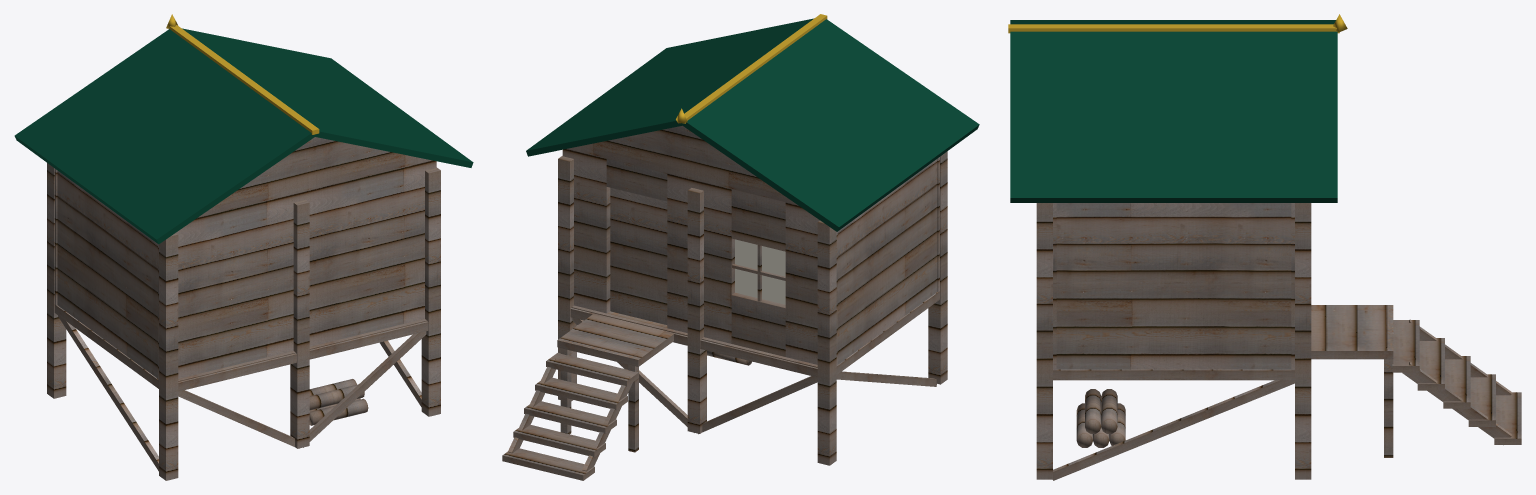
The model's file is gubuk-santri.glb.
The picture shows the model from 3 angles, left to right: view 1: azimuth 30°, elevation 25°; view 2: azimuth 150°, elevation 25°; view 3: azimuth 270°, elevation 25°; orthographic projection. The views are drawn at different scales.
Parts seen in each view (by area): view 1: Dinding_Belakang, Atap_Kiri, Dinding_Kiri, Atap_Kanan, Gable_Belakang, Tiang, Tiang.002, Tiang.004, Lantai, Tiang.001, Silang_Samping, Lis_Bubungan (+7 smaller); view 2: Atap_Kiri, Dinding_Kiri, Atap_Kanan, Depan_Tengah, Pintu, Gable_Depan, Depan_Kanan, Depan_Kiri, Tiang.001, Tiang.003, Beranda, Tiang.005 (+19 smaller); view 3: Atap_Kanan, Dinding_Kanan, Tiang.004, Tiang.005, Beranda, Lantai, Silang_Samping.001, Lis_Bubungan, Atap_Kiri, Anak_Tangga, Anak_Tangga.004, Anak_Tangga.002 (+9 smaller).
Boxes of the visible parts, x1,y1,x2,y2 form: Dinding_Belakang: [158, 160, 436, 380]; Atap_Kiri: [14, 29, 315, 244]; Dinding_Kiri: [57, 170, 157, 378]; Atap_Kanan: [182, 28, 473, 167]; Gable_Belakang: [199, 137, 430, 216]; Tiang: [159, 233, 178, 480]; Tiang.002: [290, 199, 309, 448]; Tiang.004: [421, 167, 440, 416]; Lantai: [54, 304, 428, 391]; Tiang.001: [47, 163, 66, 398]; Silang_Samping: [58, 315, 158, 471]; Lis_Bubungan: [169, 25, 319, 134]; Atap_Kiri: [682, 19, 979, 231]; Dinding_Kiri: [837, 159, 937, 364]; Atap_Kanan: [526, 18, 813, 156]; Depan_Tengah: [667, 173, 734, 343]; Pintu: [610, 187, 667, 324]; Gable_Depan: [567, 125, 797, 204]; Depan_Kanan: [562, 149, 610, 313]; Depan_Kiri: [785, 202, 837, 366]; Tiang.001: [817, 220, 836, 465]; Tiang.003: [687, 188, 706, 433]; Beranda: [557, 314, 674, 366]; Tiang.005: [558, 156, 576, 401]; Atap_Kanan: [1010, 31, 1337, 202]; Dinding_Kanan: [1056, 203, 1291, 369]; Tiang.004: [1036, 203, 1052, 479]; Tiang.005: [1295, 203, 1311, 479]; Beranda: [1311, 305, 1393, 359]; Lantai: [1053, 369, 1294, 380]; Silang_Samping.001: [1053, 380, 1294, 480]; Lis_Bubungan: [1008, 24, 1339, 33]; Atap_Kiri: [1010, 20, 1335, 24]; Anak_Tangga: [1392, 320, 1419, 372]; Anak_Tangga.004: [1494, 392, 1521, 444]; Anak_Tangga.002: [1443, 356, 1470, 408].
Bounding box in the file's own units: 4.63 × 4.76 × 5.64.
10 materials, 2 textured.
